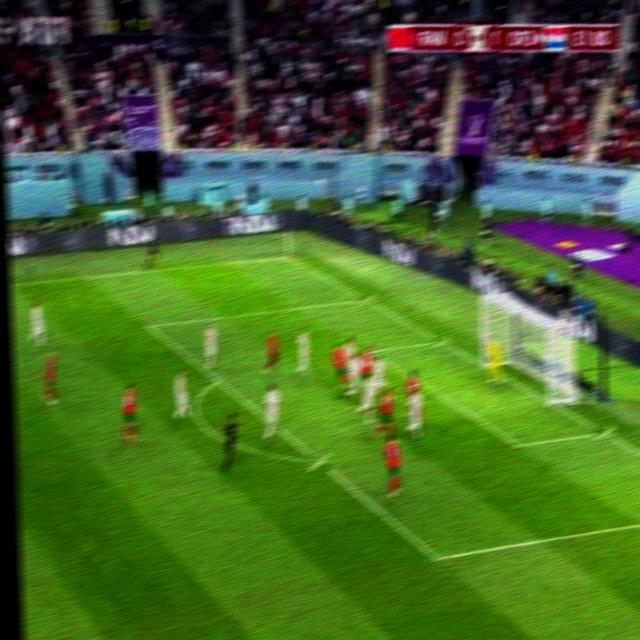bigarea_bottom_inner: (424, 542, 449, 573)
bigarea_top_inner: (140, 314, 159, 336)
bigarea_top_outter: (357, 290, 375, 307)
bottom_arc_area_intersection: (308, 447, 330, 471)
corner: (280, 249, 298, 262)
smallarea_bottom_inner: (507, 429, 530, 460)
smallarea_bottom_outter: (593, 420, 615, 444)
smallarea_top_inner: (364, 342, 381, 362)
smallarea_top_outter: (432, 330, 451, 350)
top_arc_area_intersection: (210, 370, 229, 389)
